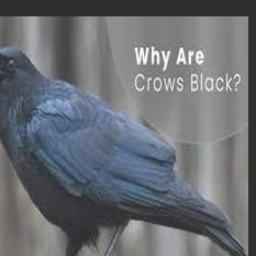Crow: (0, 47, 247, 256)
